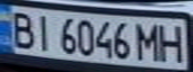0: (75, 17, 96, 56)
4: (93, 18, 115, 58)
6: (54, 15, 78, 55), (112, 19, 133, 61)
B: (3, 8, 39, 50)
H: (157, 21, 190, 63)
I: (30, 11, 57, 52)
M: (133, 20, 163, 62)
